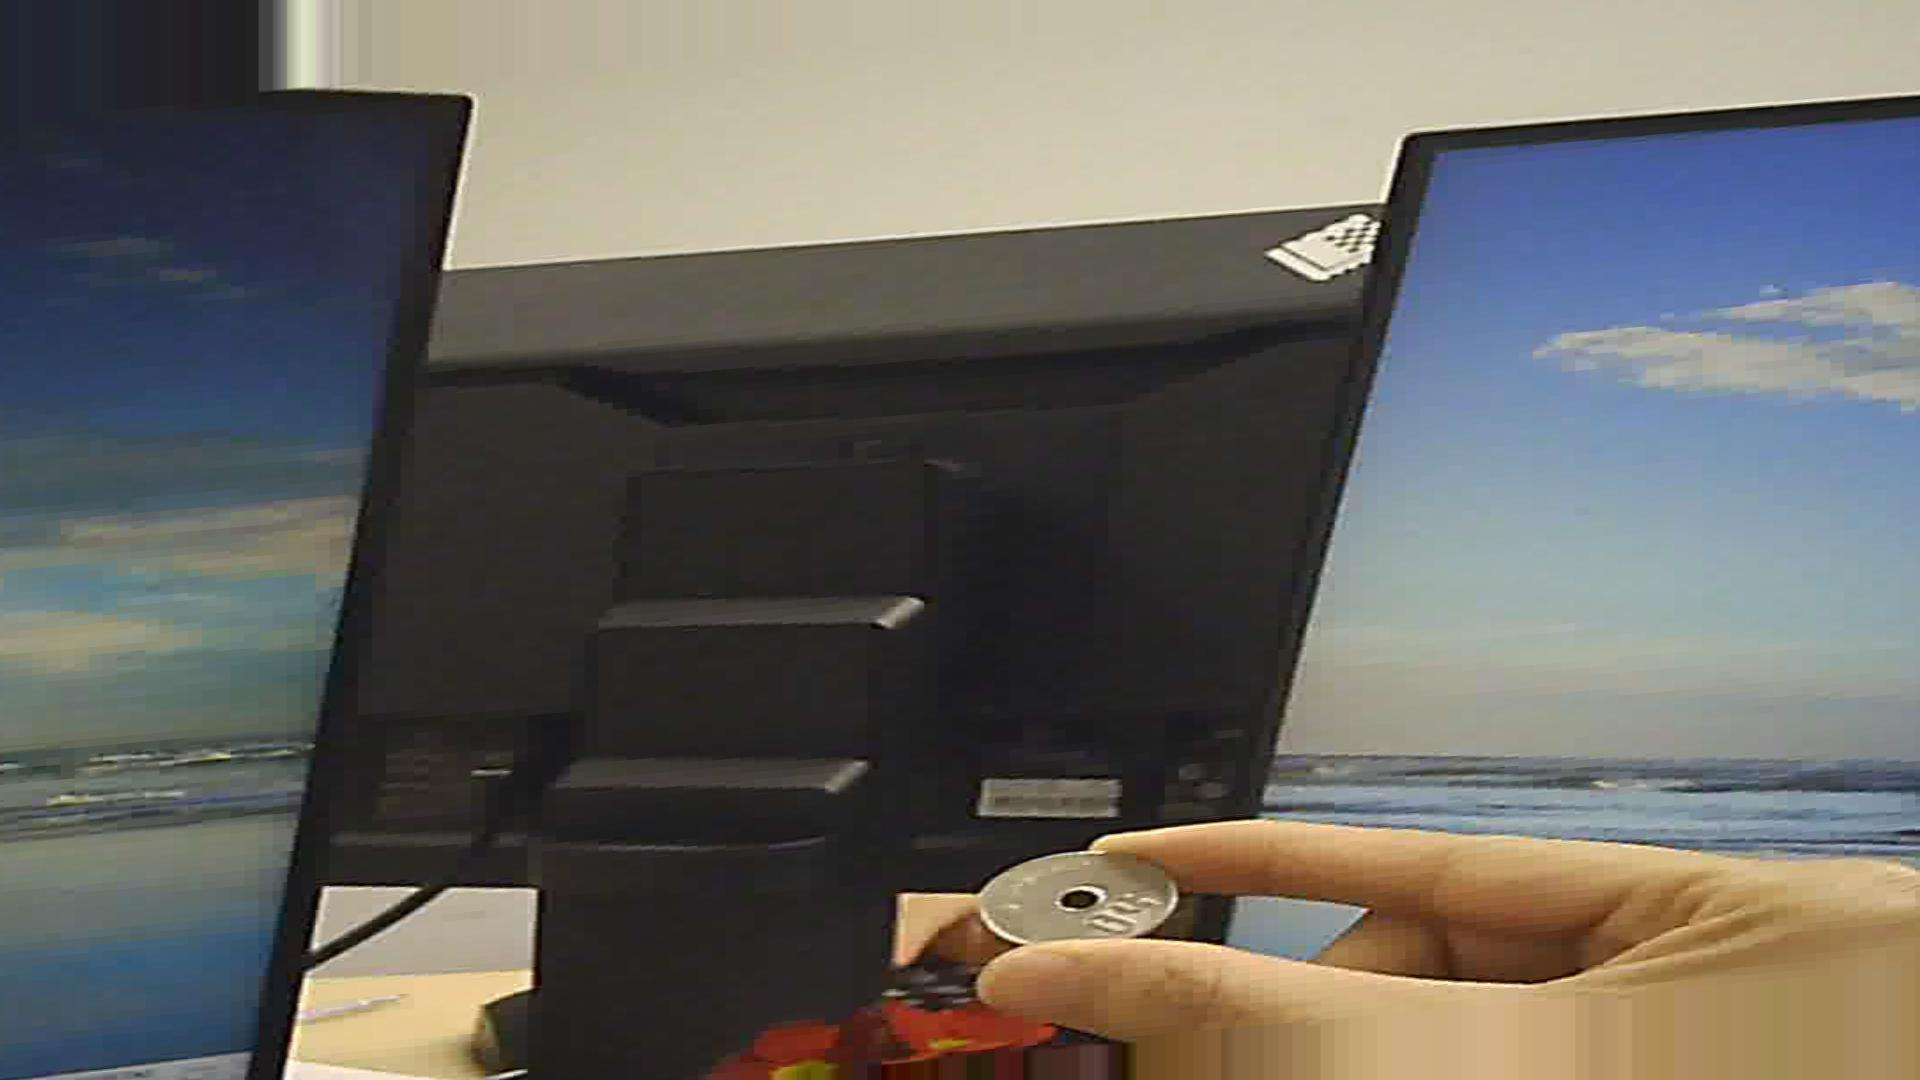50 Yen: (963, 851, 1197, 964)
